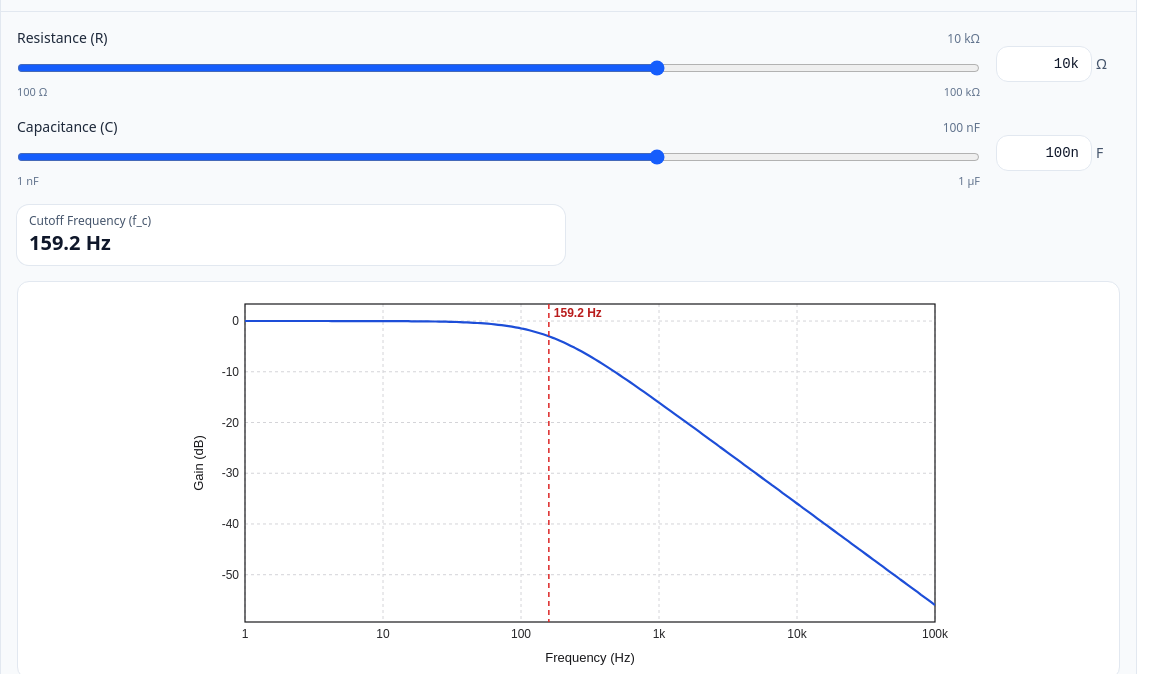
Test case: InteractiveParameterSlider › Reset restores the defaults
The width and height of the screenshot is (1152, 674).
Set the slider labelled "Resistance (R)" to "900": (877, 68) [17,52,980,84]
(page scrolled)
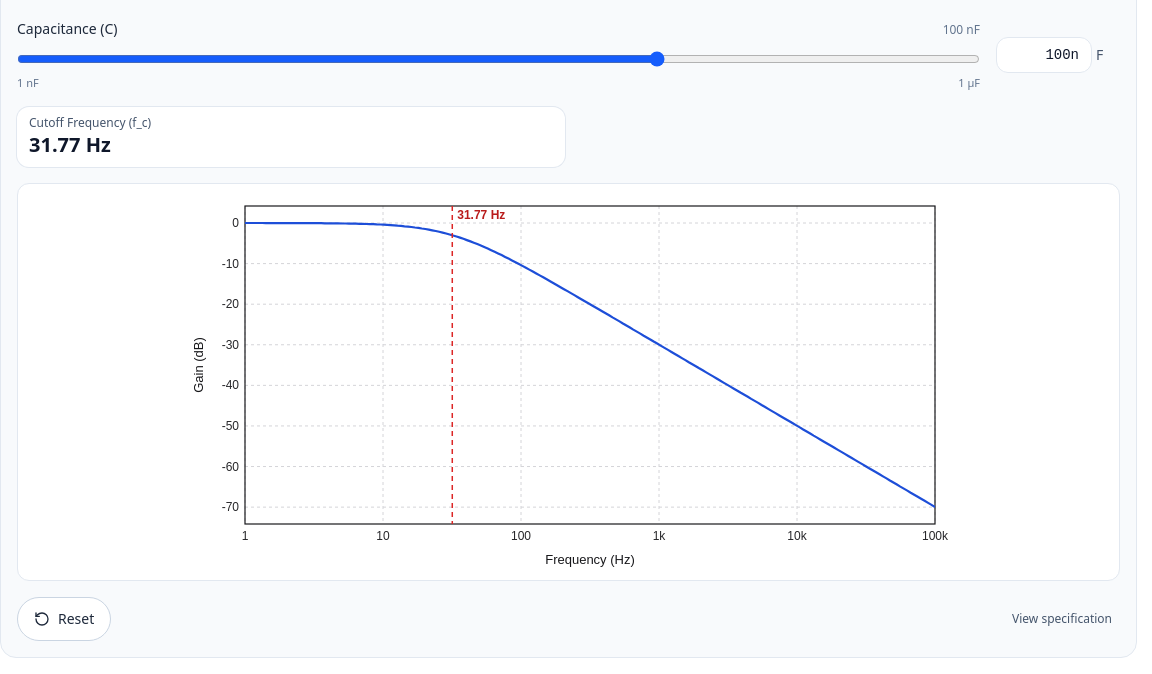
Click the button "Reset": (64, 619) [17,597,111,641]
(page scrolled)
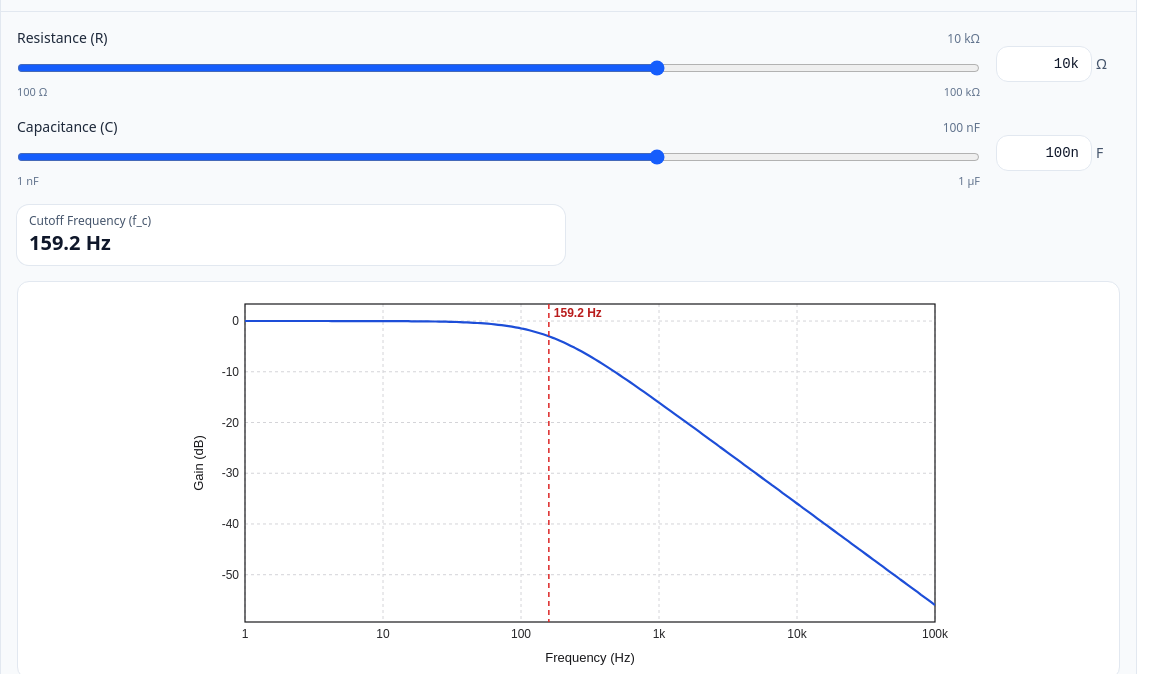
Check: the field named "Exact value of Resistance (R)" holds "10k", box [996,46,1092,82]
